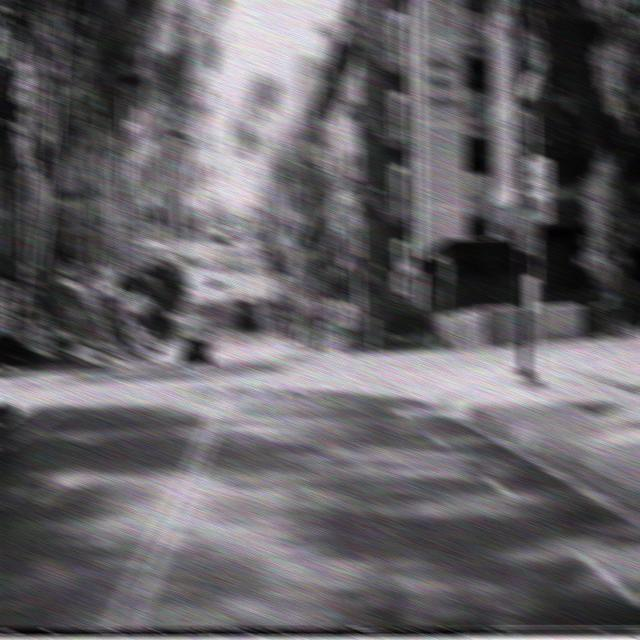stop_sign: (505, 188, 541, 253)
